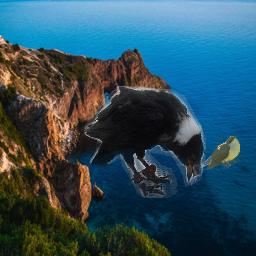Crow: (84, 86, 206, 198)
Cuckoo: (188, 136, 240, 173)
